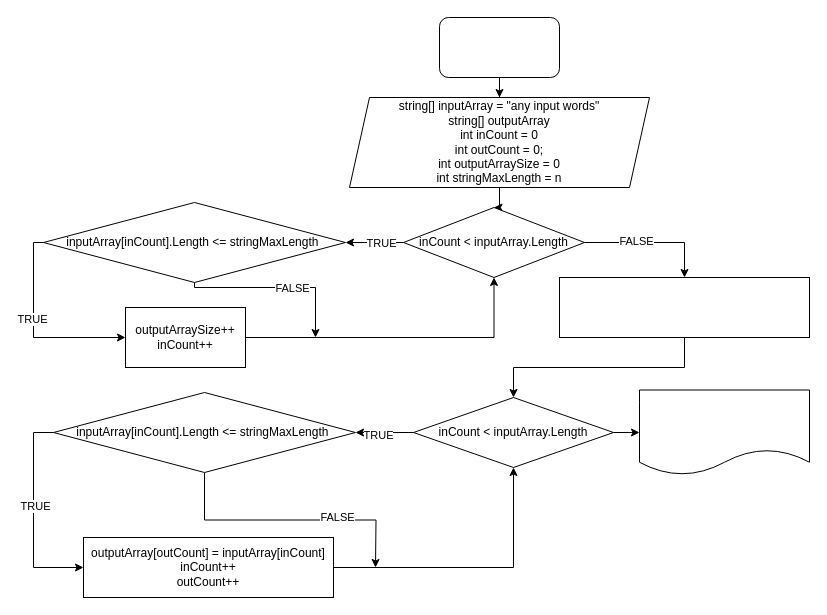
This 827x615 diagram has some shape labels left out. The shapes that lost their labels are listed below. From the top down, each one's centre as x and y in pixels, then its label:
At point (499, 47): "Start".
At point (684, 307): "outputArray = new string[outputArraySize] inCount = 0".
At point (724, 432): "End result -> outputArray".
